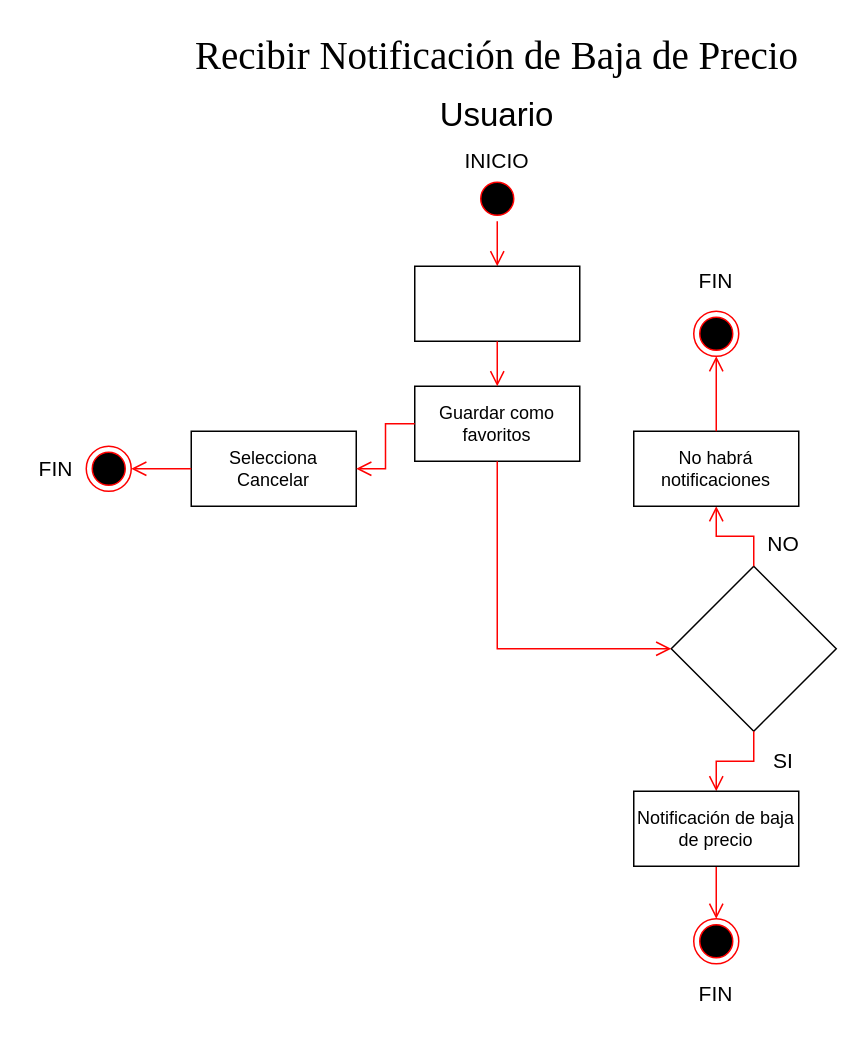
This 863x1049 diagram has some shape labels left out. Each missing label, with the centre of its shape:
"Selecciona un Producto" belongs at [496,303].
"¿Precio actualizado?" belongs at [753,648].
